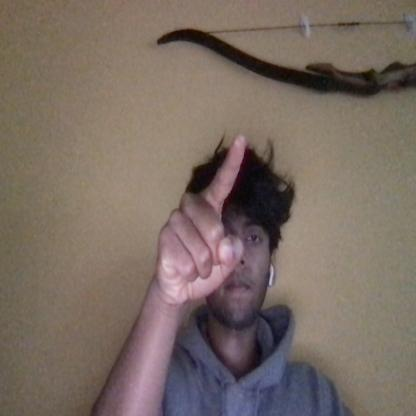finger_point: (208, 107, 269, 170)
